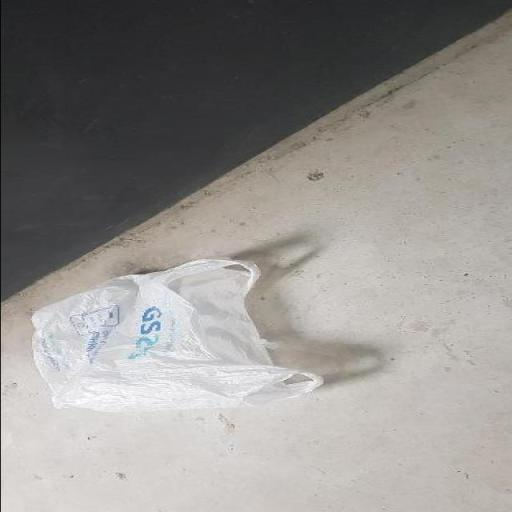plastic-bag: (28, 257, 322, 414)
